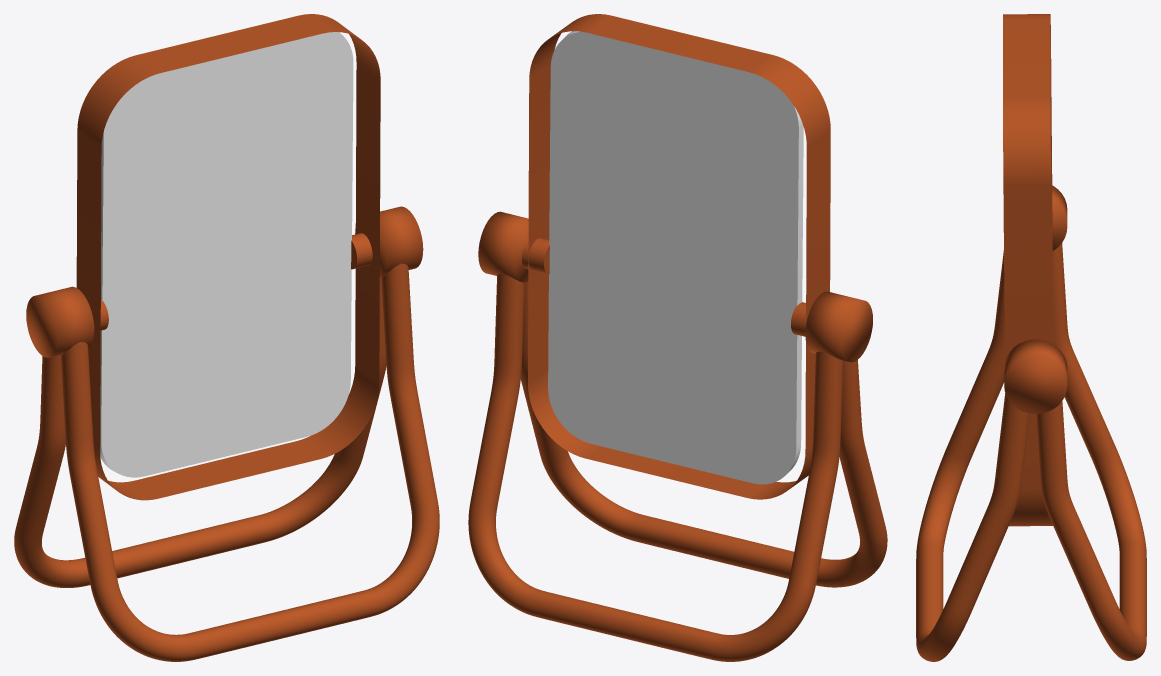
Rendered from mirror.glb.
3 views of the same model, side by side, from view 1: azimuth 30°, elevation 25°; view 2: azimuth 150°, elevation 25°; view 3: azimuth 270°, elevation 25° (orthographic).
Parts seen in each view (by area): view 1: Cube.002, Vert, Cube, Cylinder, Cylinder.001; view 2: Cube.002, Vert, Cube, Cylinder, Cylinder.001; view 3: Vert, Cube, Cylinder.
Part boxes in pixels (box(x1,y1,x2,y2)): Cube.002: box(100, 32, 353, 477); Vert: box(14, 263, 439, 661); Cube: box(76, 14, 380, 500); Cylinder: box(26, 206, 423, 357); Cylinder.001: box(100, 233, 372, 330); Cube.002: box(548, 31, 803, 484); Vert: box(468, 274, 887, 661); Cube: box(528, 14, 830, 499); Cylinder: box(478, 211, 872, 362); Cylinder.001: box(522, 238, 805, 336); Vert: box(916, 243, 1146, 661); Cube: box(1003, 14, 1053, 526); Cylinder: box(1004, 185, 1067, 413).
Bounding box in the file's own units: 1.14 × 1.66 × 0.6318.
